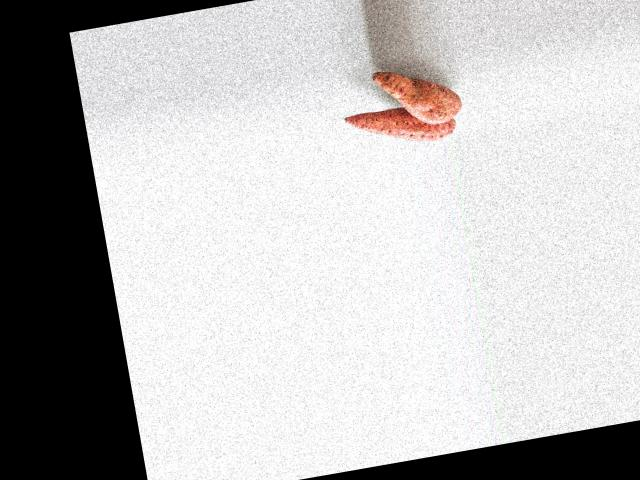sweet_potato: (350, 97, 457, 152)
